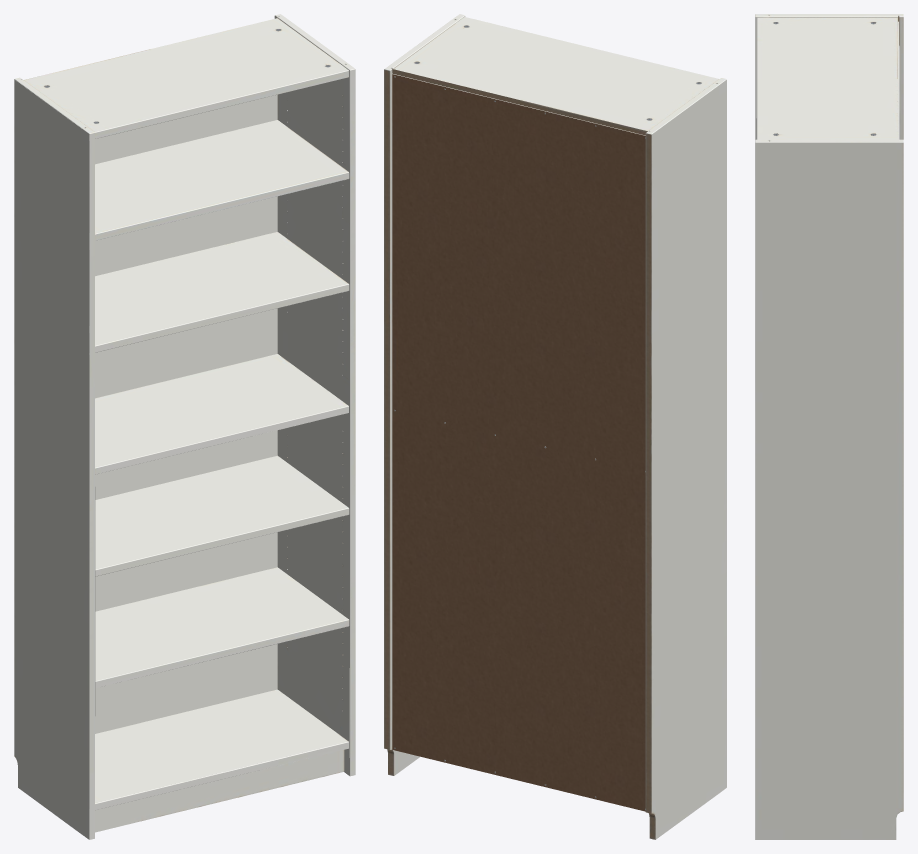
File: billy_rega_90401932.glb
The picture shows the model from 3 angles, left to right: view 1: azimuth 30°, elevation 25°; view 2: azimuth 150°, elevation 25°; view 3: azimuth 270°, elevation 25°; orthographic projection.
Visible parts, largest first — view 1: billy_rega_90401932; view 2: billy_rega_90401932; view 3: billy_rega_90401932.
Boxes of the visible parts, x1=… form: billy_rega_90401932: x1=14, y1=14, x2=355, y2=839; billy_rega_90401932: x1=384, y1=14, x2=726, y2=839; billy_rega_90401932: x1=755, y1=14, x2=903, y2=839.
Bounding box in the file's own units: 0.798 × 2.02 × 0.39.
1 material, 1 textured.
